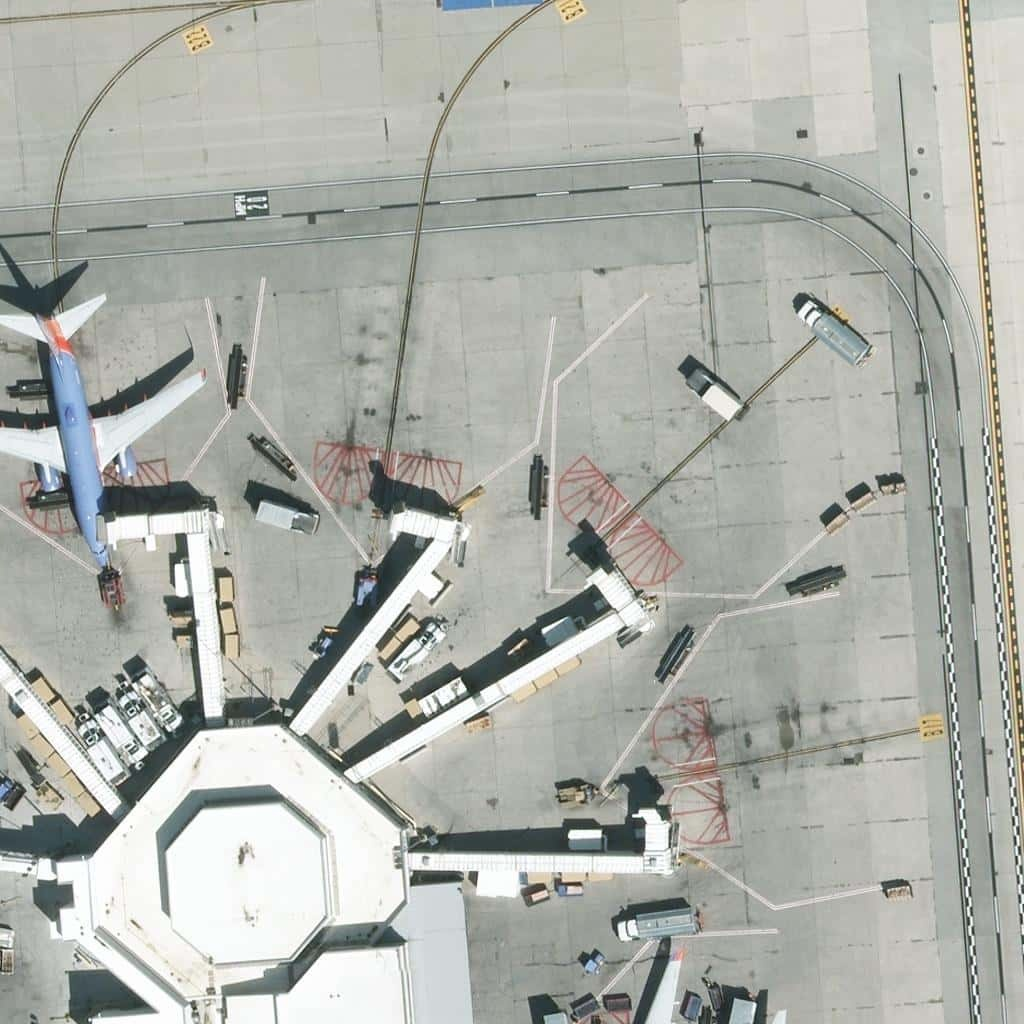plane: (7, 290, 209, 565)
